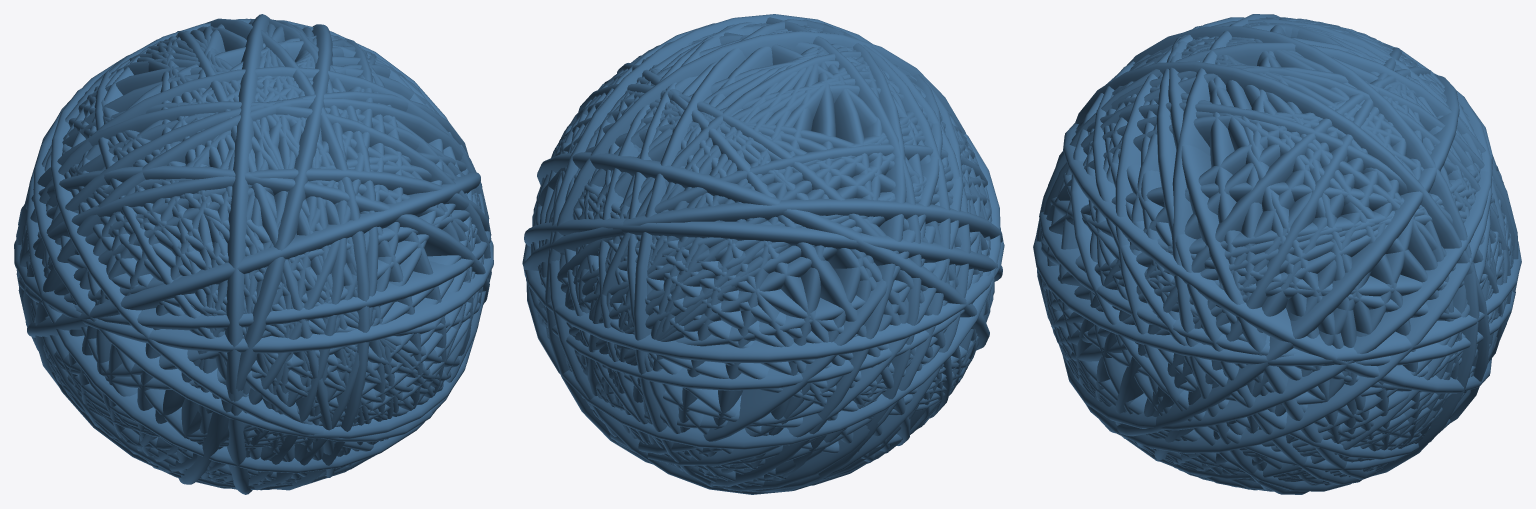
The model's file is BallOfWool.fbx.
3 renders of one model, left to right at view 1: azimuth 30°, elevation 25°; view 2: azimuth 150°, elevation 25°; view 3: azimuth 270°, elevation 25°, orthographic.
Parts seen in each view (by area): view 1: Novelo; view 2: Novelo; view 3: Novelo.
Boxes of the visible parts, bbox=[...] form: Novelo: bbox=[14, 14, 493, 494]; Novelo: bbox=[522, 14, 1004, 494]; Novelo: bbox=[1033, 14, 1521, 494].
Size of the model in its own units: 216 by 216 by 216.
